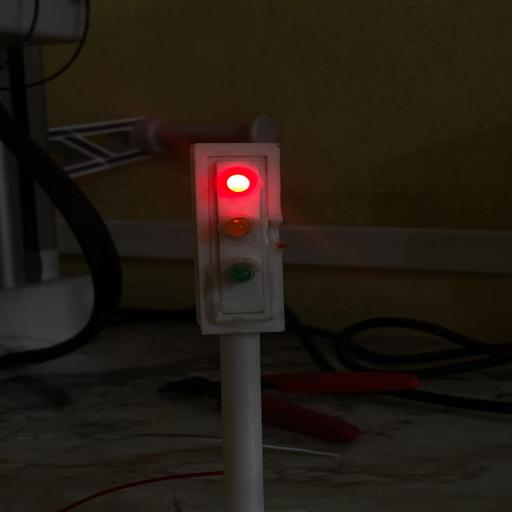Red Light: (218, 166, 261, 197), (227, 174, 250, 192)
